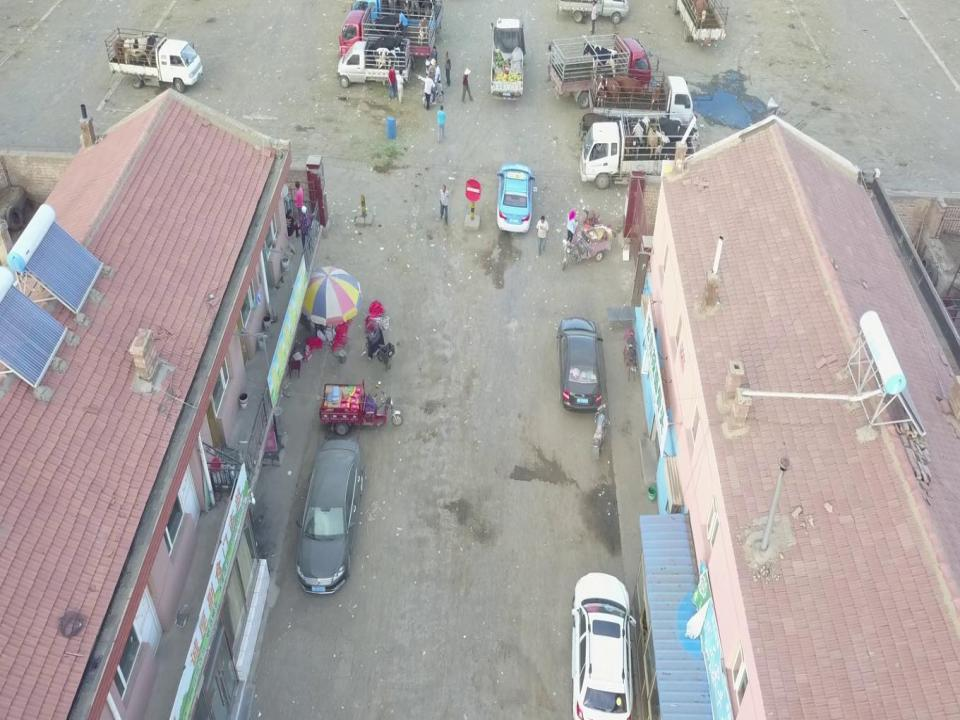car: (294, 438, 365, 596), (570, 569, 638, 720), (556, 315, 604, 413), (496, 162, 536, 234)
truck: (579, 111, 700, 190), (548, 32, 660, 109), (588, 66, 694, 134), (104, 26, 203, 94), (338, 7, 435, 63), (337, 35, 412, 88), (350, 0, 443, 42), (489, 16, 525, 101), (673, 0, 730, 44), (555, 0, 630, 25)
